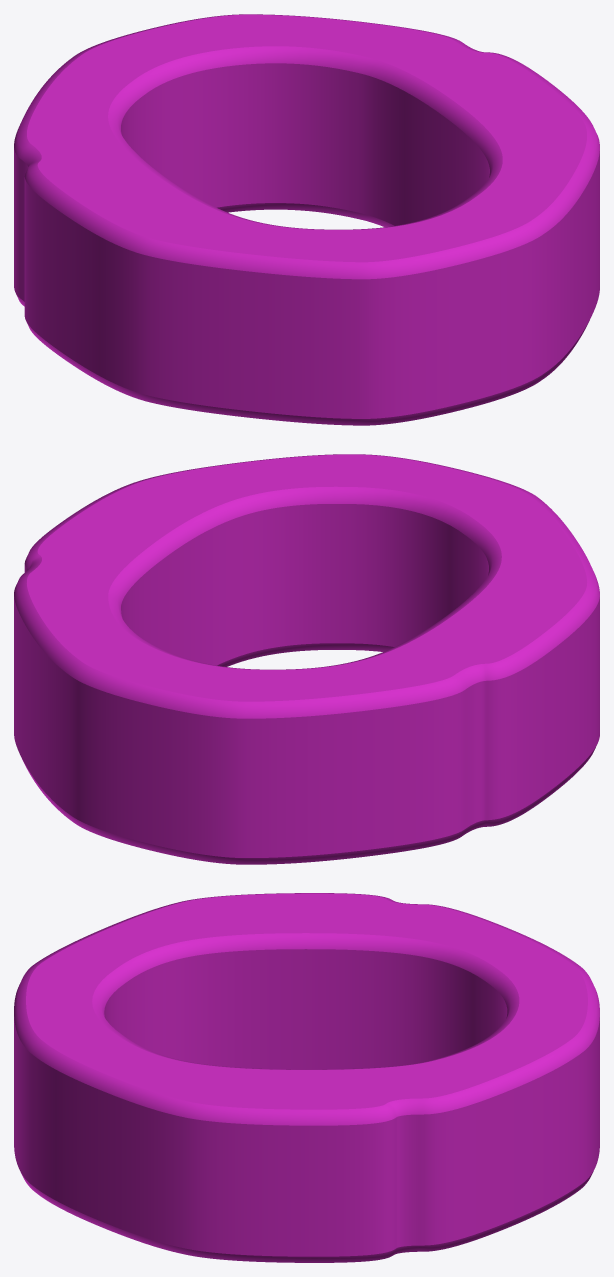
File: Blocky_Letter_o.fbx
3 views of the same model, one above another, from view 1: azimuth 30°, elevation 25°; view 2: azimuth 150°, elevation 25°; view 3: azimuth 270°, elevation 25° (orthographic). The views are drawn at different scales.
Parts seen in each view (by area): view 1: BlockyLetter_o; view 2: BlockyLetter_o; view 3: BlockyLetter_o.
Boxes of the visible parts, x1,y1,x2,y2 form: BlockyLetter_o: [14, 14, 599, 425]; BlockyLetter_o: [14, 454, 599, 864]; BlockyLetter_o: [14, 893, 599, 1262].
Bounding box in the file's own units: 0.4448 × 0.14 × 0.4864.
